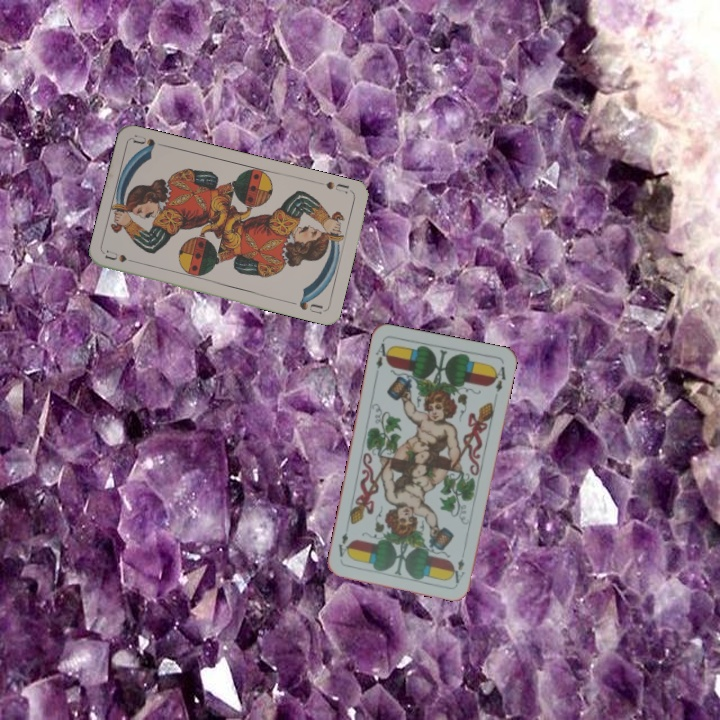EA: (371, 339, 392, 371), (451, 555, 468, 586)
SU: (102, 246, 143, 266), (314, 177, 352, 196)
